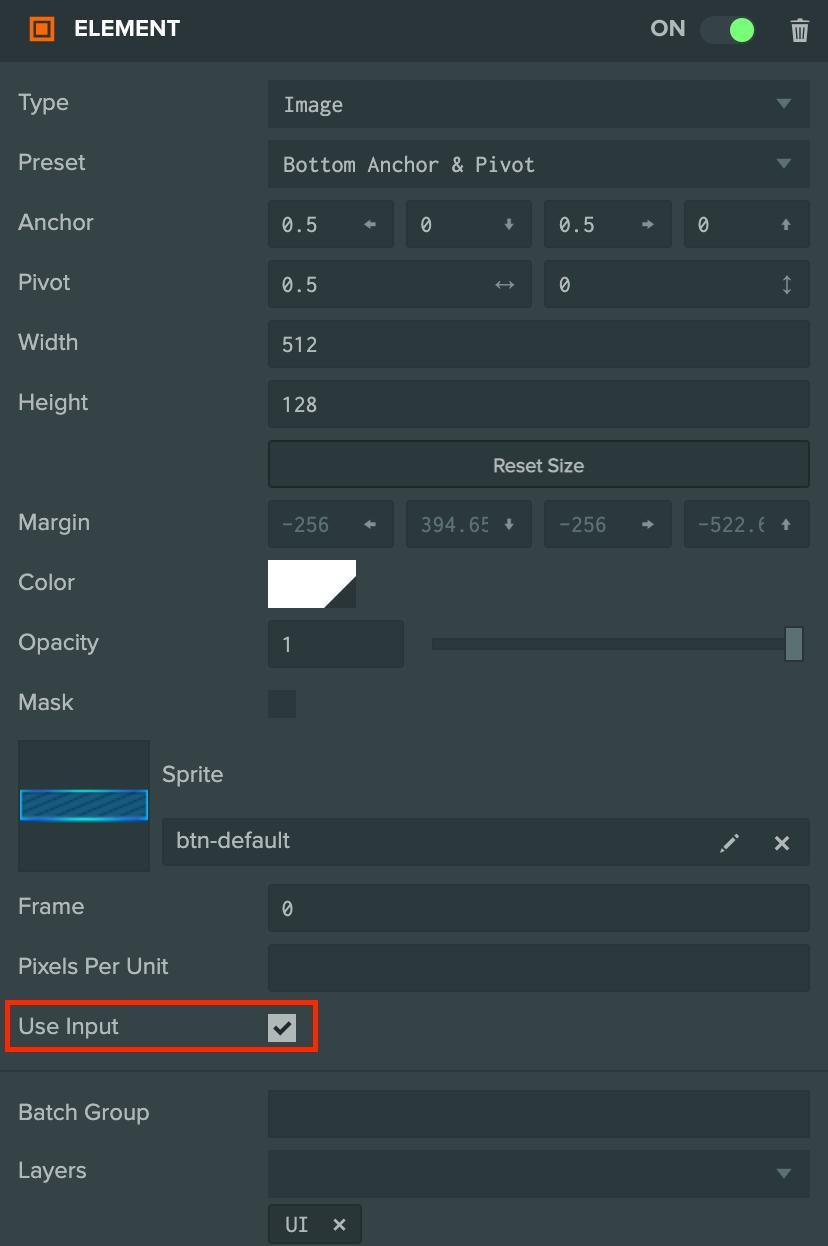button: (266, 438, 815, 491)
checkbox: (270, 689, 300, 718)
dropdown: (265, 1144, 817, 1202), (267, 136, 813, 194), (266, 76, 813, 133)
icon: (787, 10, 814, 52), (716, 830, 745, 860), (770, 832, 798, 862)
input: (266, 1084, 815, 1144), (266, 882, 813, 936), (267, 317, 813, 371), (267, 380, 812, 433), (266, 944, 811, 994), (548, 258, 811, 308), (270, 261, 530, 307)
label: (19, 957, 171, 977), (20, 1104, 149, 1127), (19, 1017, 120, 1039), (18, 633, 101, 659), (76, 20, 183, 39), (19, 393, 91, 416), (19, 513, 91, 536), (21, 1162, 88, 1184), (19, 214, 96, 233), (20, 898, 86, 918), (20, 154, 88, 172), (19, 93, 71, 116), (19, 573, 78, 593), (19, 333, 80, 352), (19, 693, 75, 713), (20, 273, 73, 293), (652, 18, 688, 41)
slider: (427, 626, 828, 664)
switch: (703, 15, 758, 47)
